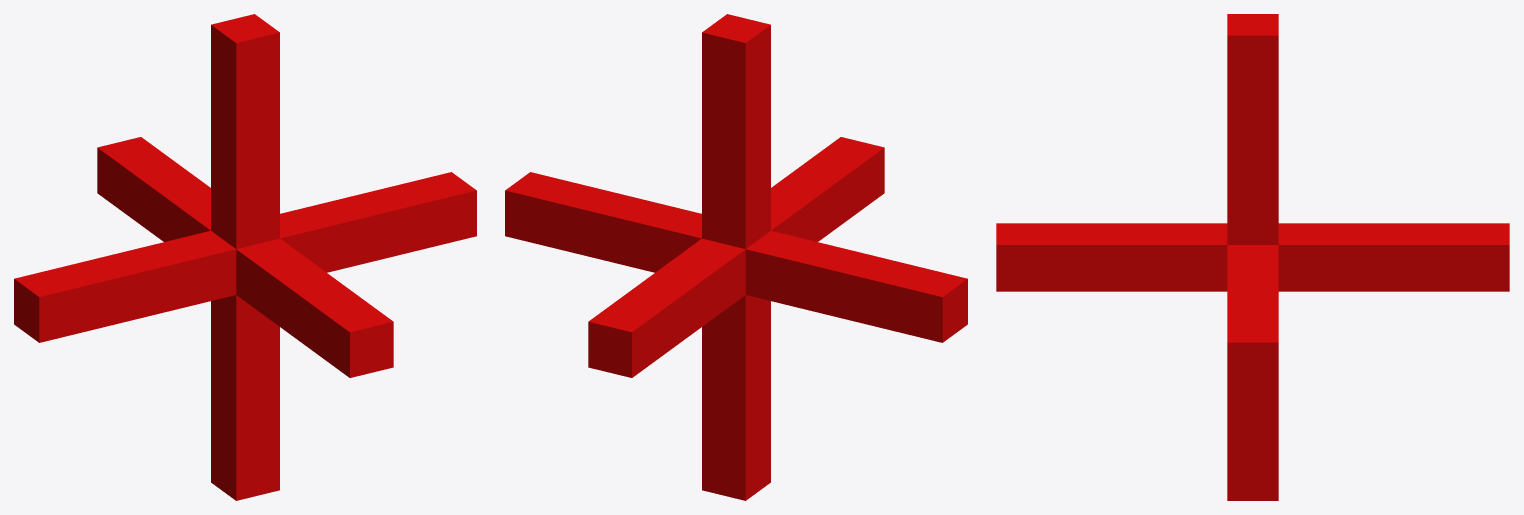
File: Target.fbx
The picture shows the model from 3 angles, left to right: view 1: azimuth 30°, elevation 25°; view 2: azimuth 150°, elevation 25°; view 3: azimuth 270°, elevation 25°; orthographic projection.
Visible parts, largest first — view 1: Target1; view 2: Target1; view 3: Target1.
Part boxes in pixels (x1=…): Target1: x1=14, y1=14, x2=476, y2=500; Target1: x1=505, y1=14, x2=967, y2=500; Target1: x1=996, y1=14, x2=1509, y2=500.
Bounding box in the file's own units: 1 × 1 × 1.
